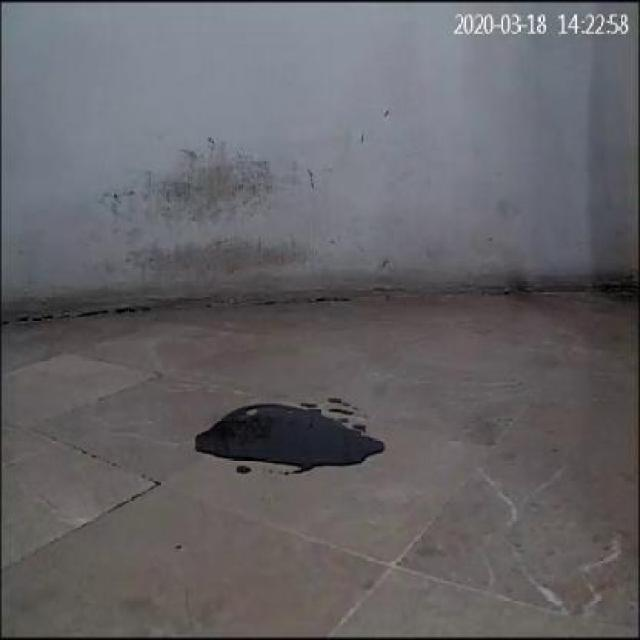spill: (190, 400, 390, 476)
